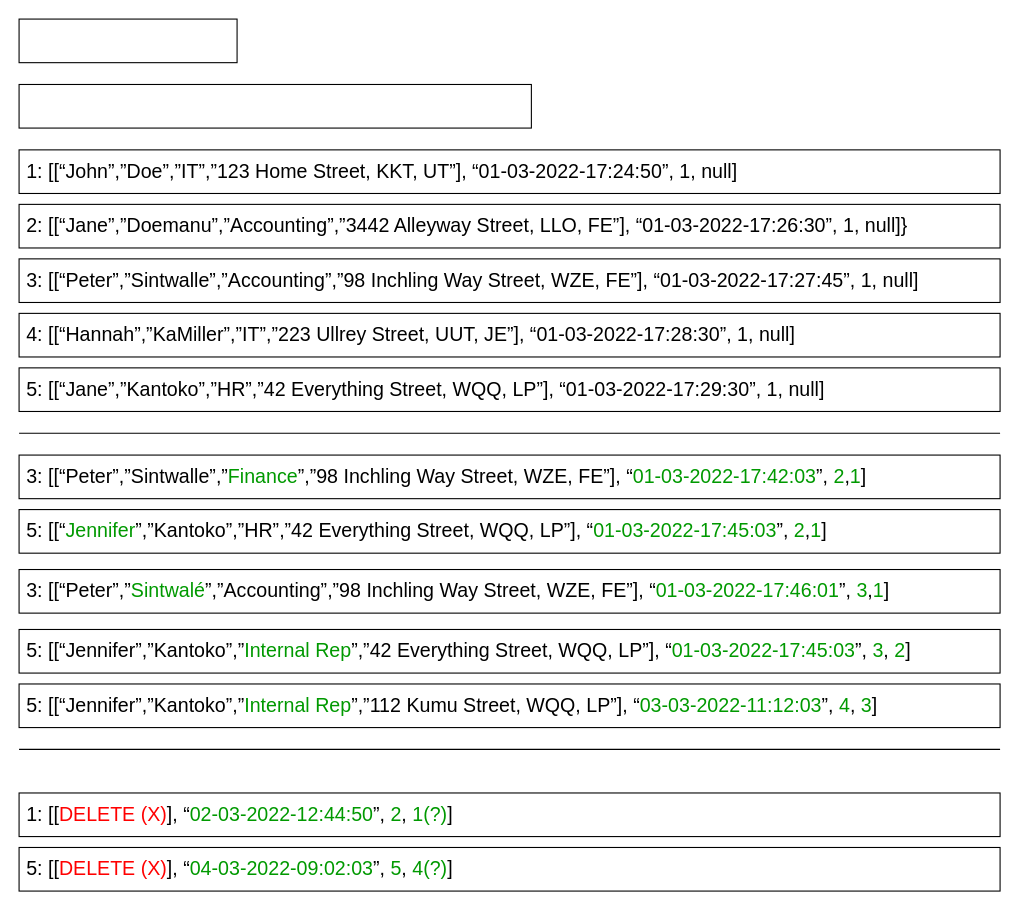
Image size: 1020x910. Some labels were removed from this diagram. The centre of each missing label's shape, as x and y in pixels:
"key : [[val], ts, ver, pre]" belongs at (127,40).
"val = first_name, last_name, department, home_address" belongs at (274,105).
